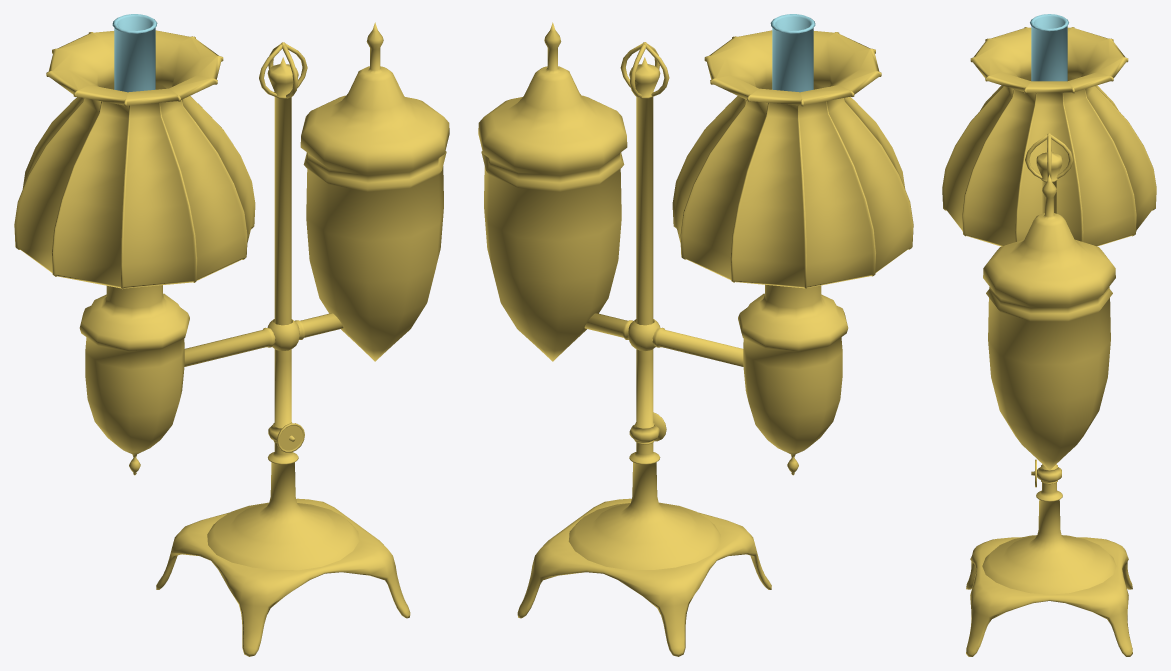
Rendered from lamp_oil_a003.fbx.
3 views of the same model, side by side, from view 1: azimuth 30°, elevation 25°; view 2: azimuth 150°, elevation 25°; view 3: azimuth 270°, elevation 25° (orthographic). The views are drawn at different scales.
Parts seen in each view (by area): view 1: lamp_oil_base; view 2: lamp_oil_base; view 3: lamp_oil_base.
Boxes of the visible parts, x1=… form: lamp_oil_base: x1=14, y1=14, x2=449, y2=656; lamp_oil_base: x1=478, y1=14, x2=913, y2=656; lamp_oil_base: x1=942, y1=14, x2=1156, y2=656.
Size of the model in its own units: 40.26 by 58.72 by 21.2.
